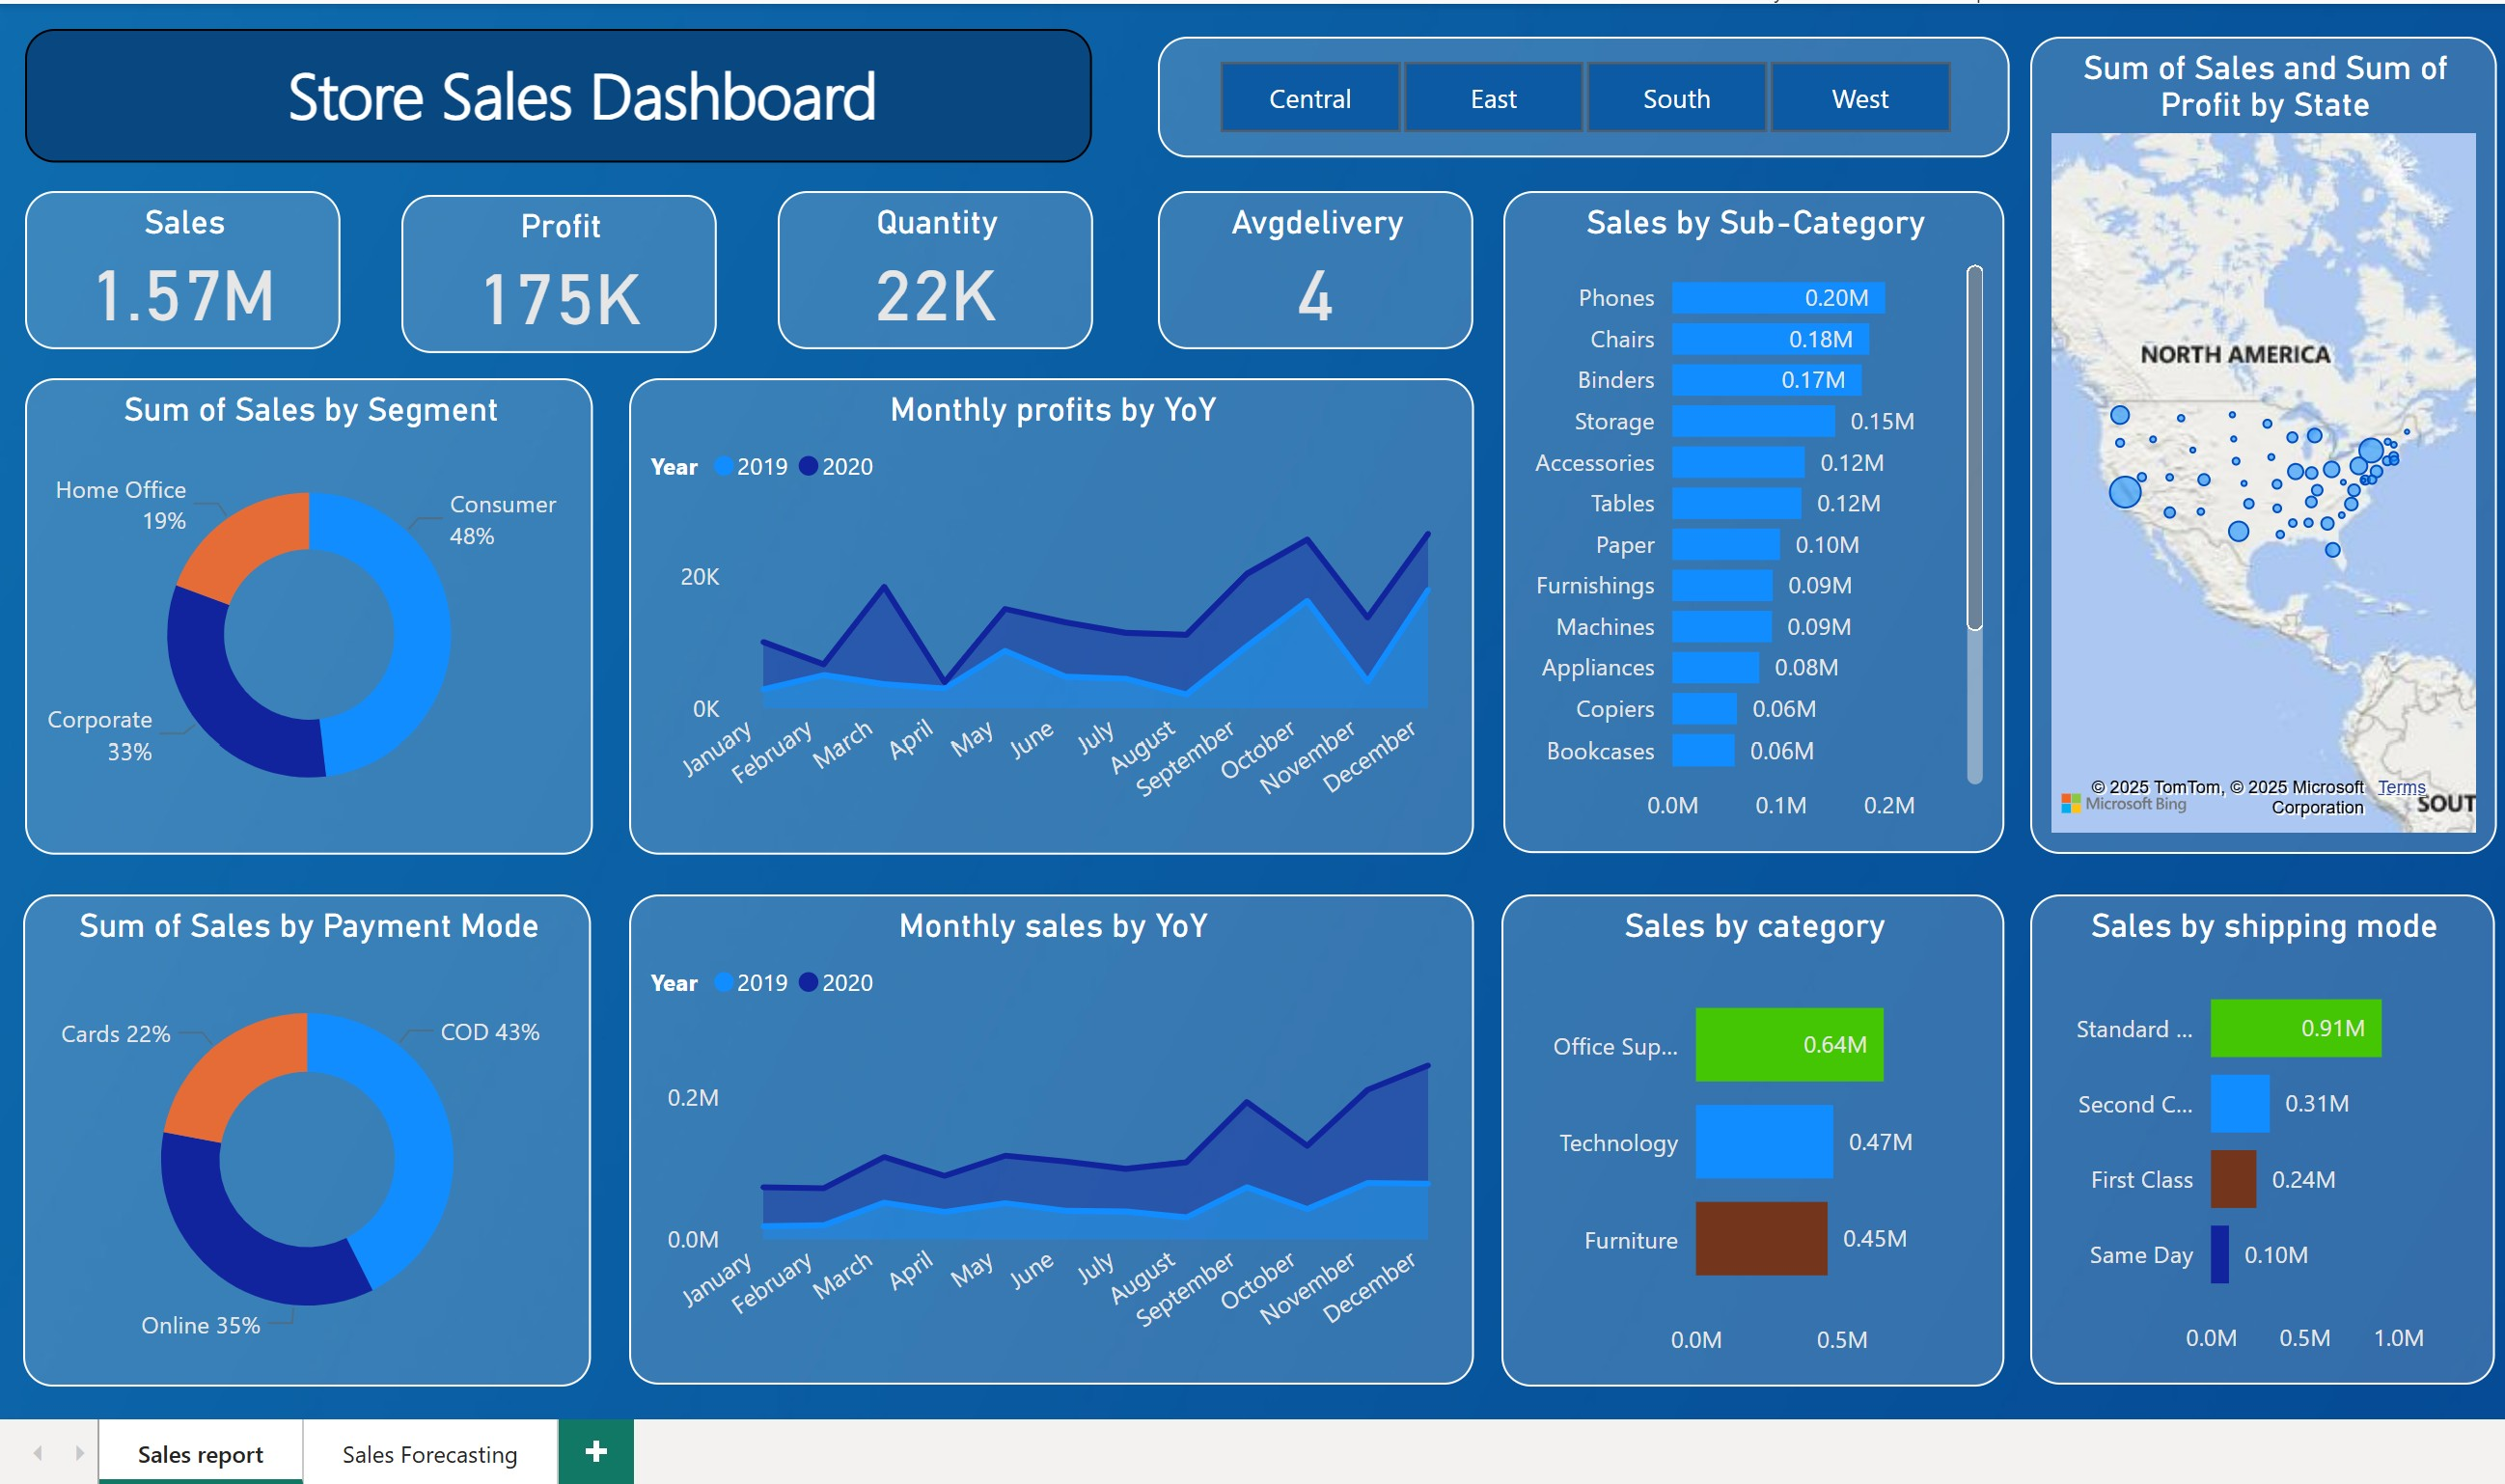

This screenshot's page, from the dashboard's own definition file:
{"tool":"powerbi","page":{"name":"Sales report","canvas":[1280,720],"ordinal":0},"visuals":[{"type":"barChart","title":"Sales by category","fields":{"Y":["Sum(SuperStore_Sales_Dataset (1).Sales)"],"Category":["SuperStore_Sales_Dataset (1).Category"]},"box":[764.3,453.1,256.2,250.7],"z":0},{"type":"barChart","title":" Sales by Sub-Category","fields":{"Y":["Sum(SuperStore_Sales_Dataset (1).Sales)"],"Category":["SuperStore_Sales_Dataset (1).Sub-Category"]},"box":[765.4,95.7,255.1,336.5],"z":1000},{"type":"barChart","title":" Sales by shipping mode","fields":{"Y":["Sum(SuperStore_Sales_Dataset (1).Sales)"],"Category":["SuperStore_Sales_Dataset (1).Ship Mode"]},"box":[1033.7,453.1,236.4,249.6],"z":2000},{"type":"stackedAreaChart","title":"Monthly sales by YoY","fields":{"Category":["SuperStore_Sales_Dataset (1).Order Date.Variation.Date Hierarchy.Month","SuperStore_Sales_Dataset (1).Order Date.Variation.Date Hierarchy.Day"],"Y":["Sum(SuperStore_Sales_Dataset (1).Sales)"],"Series":["SuperStore_Sales_Dataset (1).Order Date.Variation.Date Hierarchy.Year"]},"box":[320,453.1,430,249.6],"z":3000},{"type":"stackedAreaChart","title":"Monthly profits by YoY","fields":{"Category":["SuperStore_Sales_Dataset (1).Order Date.Variation.Date Hierarchy.Month","SuperStore_Sales_Dataset (1).Order Date.Variation.Date Hierarchy.Day"],"Series":["SuperStore_Sales_Dataset (1).Order Date.Variation.Date Hierarchy.Year"],"Y":["Sum(SuperStore_Sales_Dataset (1).Profit)"]},"box":[320,190.2,430,241.9],"z":4000},{"type":"map","fields":{"Category":["SuperStore_Sales_Dataset (1).State"],"Size":["Sum(SuperStore_Sales_Dataset (1).Sales)"]},"box":[1033.7,16.5,237.5,415.7],"z":5000},{"type":"donutChart","fields":{"Category":["SuperStore_Sales_Dataset (1).Segment"],"Y":["Sum(SuperStore_Sales_Dataset (1).Sales)"]},"box":[13.2,190.2,289.2,241.9],"z":6000},{"type":"donutChart","fields":{"Y":["Sum(SuperStore_Sales_Dataset (1).Sales)"],"Category":["SuperStore_Sales_Dataset (1).Payment Mode"]},"box":[12.1,453.1,289.2,250.7],"z":7000},{"type":"slicer","fields":{"Values":["SuperStore_Sales_Dataset (1).Region"]},"box":[589.4,16.5,433.3,61.6],"z":8000},{"type":"textbox","box":[13.2,13.2,543.2,68.2],"z":9000},{"type":"card","title":"Sales","fields":{"Values":["Sum(SuperStore_Sales_Dataset (1).Sales)"]},"box":[13.2,95.7,160.5,80.3],"z":10000},{"type":"card","title":"Profit","fields":{"Values":["Sum(SuperStore_Sales_Dataset (1).Profit)"]},"box":[204.5,96.8,160.5,80.3],"z":11000},{"type":"card","title":"Quantity","fields":{"Values":["Sum(SuperStore_Sales_Dataset (1).Quantity)"]},"box":[395.9,95.7,160.5,80.3],"z":12000},{"type":"card","title":"Avgdelivery","fields":{"Values":["Avg(SuperStore_Sales_Dataset (1).Avgdelivery)"]},"box":[589.4,95.7,160.5,80.3],"z":12001}]}

Visuals, with their boxes on the page's 1280x720 design canvas (x1, y1, x2, y2). These are canvas units, not pixel positions in the 2505x1484 screenshot, which may show the page scaled, cropped or inside an application window:
"Sales by category" barChart: 764, 453, 1020, 704
" Sales by Sub-Category" barChart: 765, 96, 1020, 432
" Sales by shipping mode" barChart: 1034, 453, 1270, 703
"Monthly sales by YoY" stackedAreaChart: 320, 453, 750, 703
"Monthly profits by YoY" stackedAreaChart: 320, 190, 750, 432
map - SuperStore_Sales_Dataset (1).State x Sum(SuperStore_Sales_Dataset (1).Sales): 1034, 16, 1271, 432
donutChart - SuperStore_Sales_Dataset (1).Segment x Sum(SuperStore_Sales_Dataset (1).Sales): 13, 190, 302, 432
donutChart - Sum(SuperStore_Sales_Dataset (1).Sales) x SuperStore_Sales_Dataset (1).Payment Mode: 12, 453, 301, 704
slicer - SuperStore_Sales_Dataset (1).Region: 589, 16, 1023, 78
textbox: 13, 13, 556, 81
"Sales" card: 13, 96, 174, 176
"Profit" card: 204, 97, 365, 177
"Quantity" card: 396, 96, 556, 176
"Avgdelivery" card: 589, 96, 750, 176
